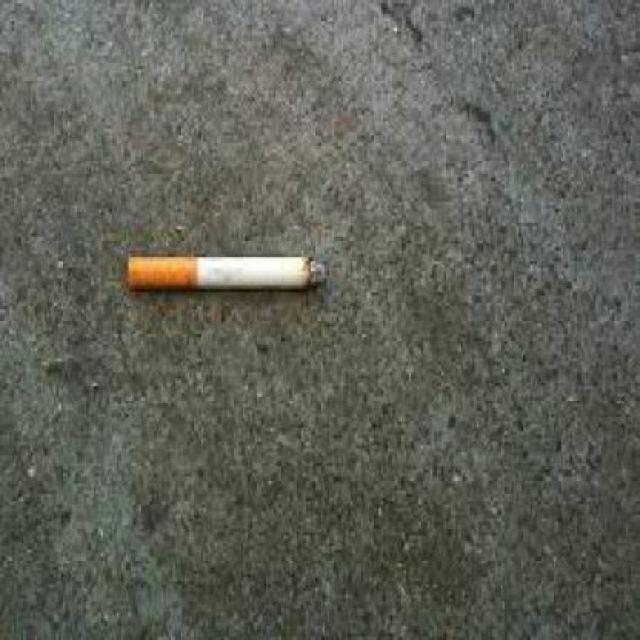cigarette: (96, 208, 356, 302)
